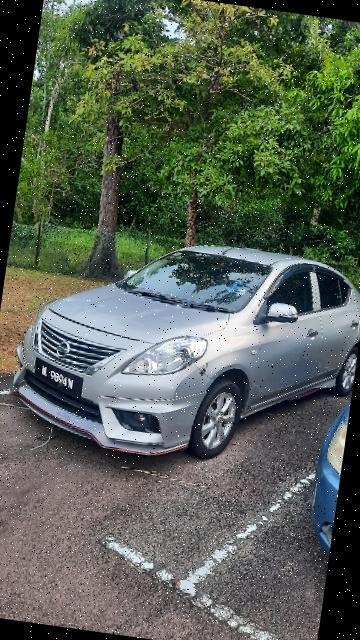License_Plate: (27, 352, 92, 403)
car: (1, 219, 360, 499)
